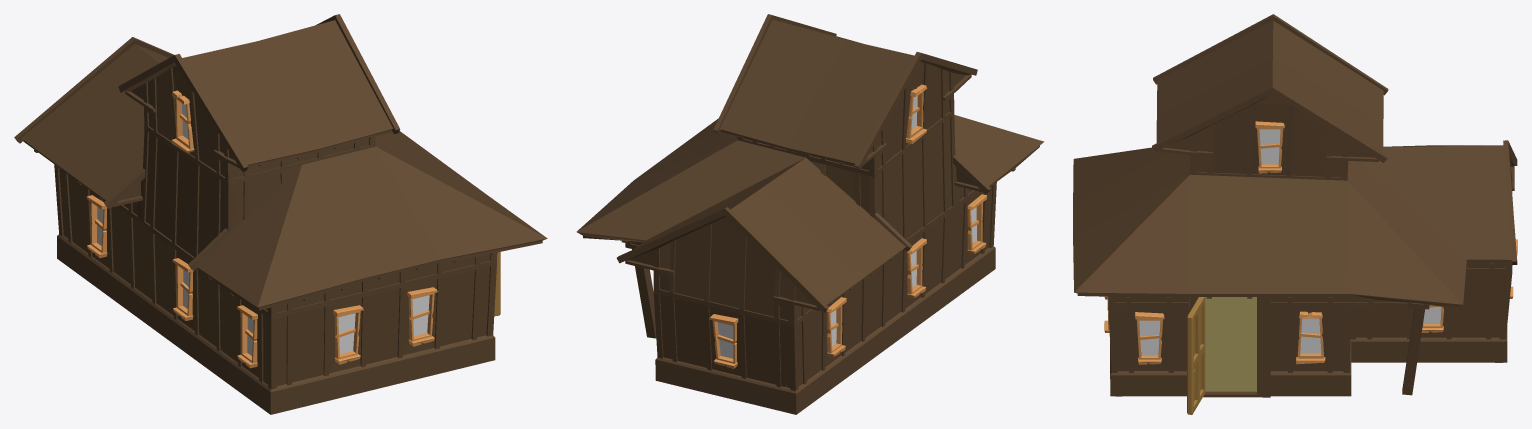
Rendered from StylizedHouse.fbx.
3 views of the same model, side by side, from view 1: azimuth 30°, elevation 25°; view 2: azimuth 150°, elevation 25°; view 3: azimuth 270°, elevation 25° (orthographic). The views are drawn at different scales.
Visible parts, largest first — view 1: OutsideHouse; view 2: OutsideHouse; view 3: OutsideHouse, SwingingDoor.
Part boxes in pixels (<box>): OutsideHouse: <box>14,14,547,414</box>; OutsideHouse: <box>576,14,1044,414</box>; OutsideHouse: <box>1073,14,1517,397</box>; SwingingDoor: <box>1187,297,1205,414</box>.
Size of the model in its own units: 818 by 767 by 1093.
